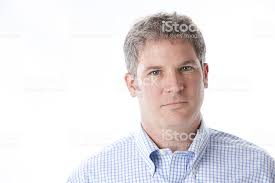white_male: (117, 36, 209, 144)
